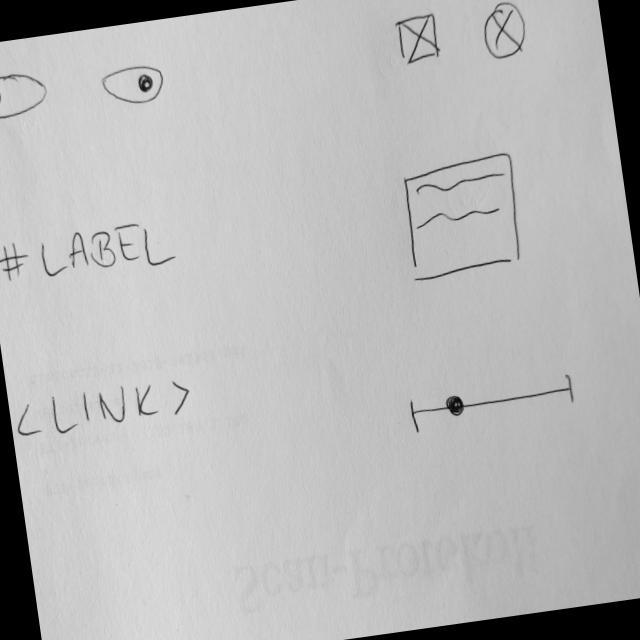image: (478, 0, 532, 61), (392, 10, 444, 68)
label: (0, 213, 179, 292)
link: (11, 373, 196, 443)
slider: (406, 369, 578, 436)
textarea: (398, 149, 528, 285)
toggle: (98, 60, 166, 111), (0, 65, 52, 123)
